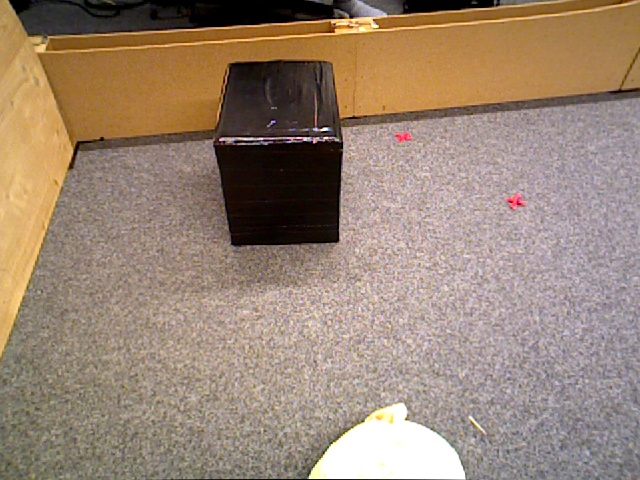grasp: (308, 419, 466, 480)
push: (213, 64, 344, 247)
